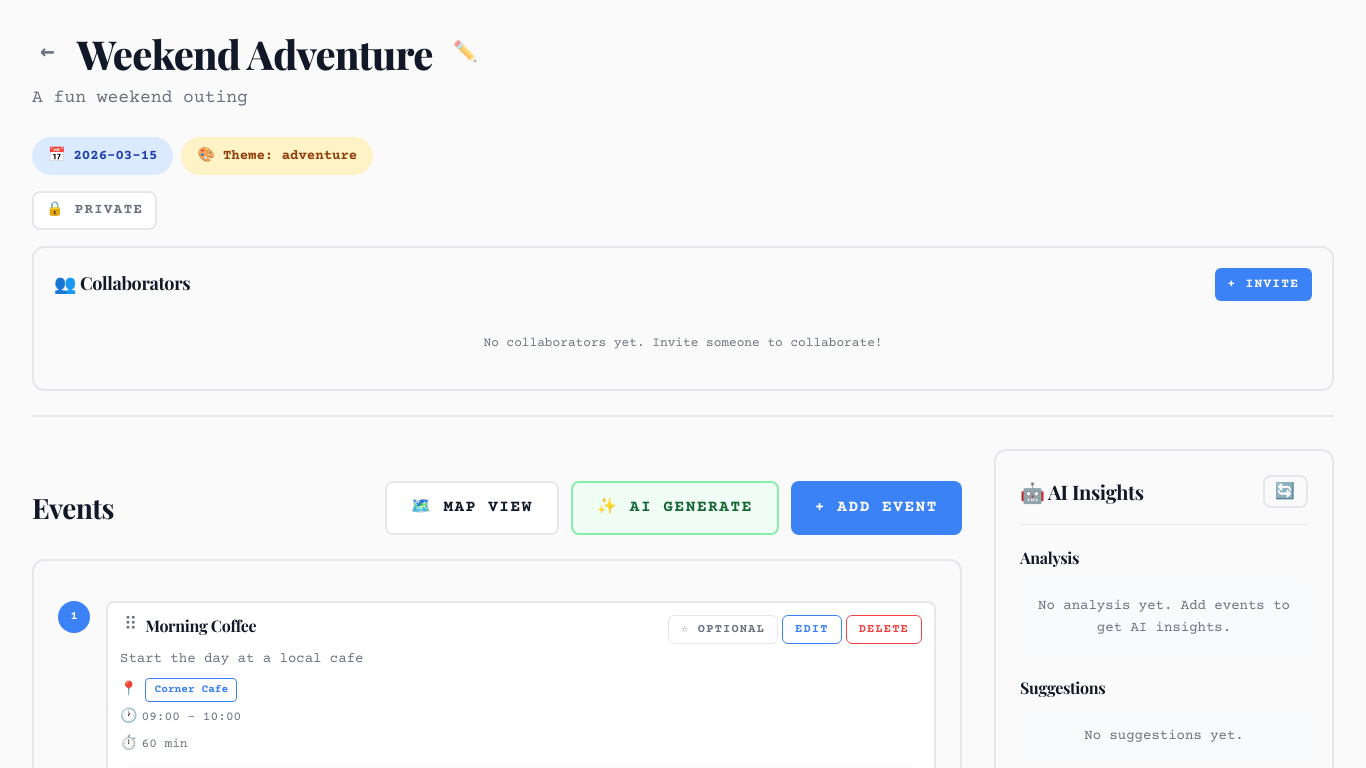
Test case: PlanDetailPage - Layout Updates › should show collaboration invite form when clicking invite
Expected: the heading "Weekend Adventure" is shown, [77, 32, 433, 76]
Click the button "+ Invite": (1263, 284) [1215, 268, 1312, 301]
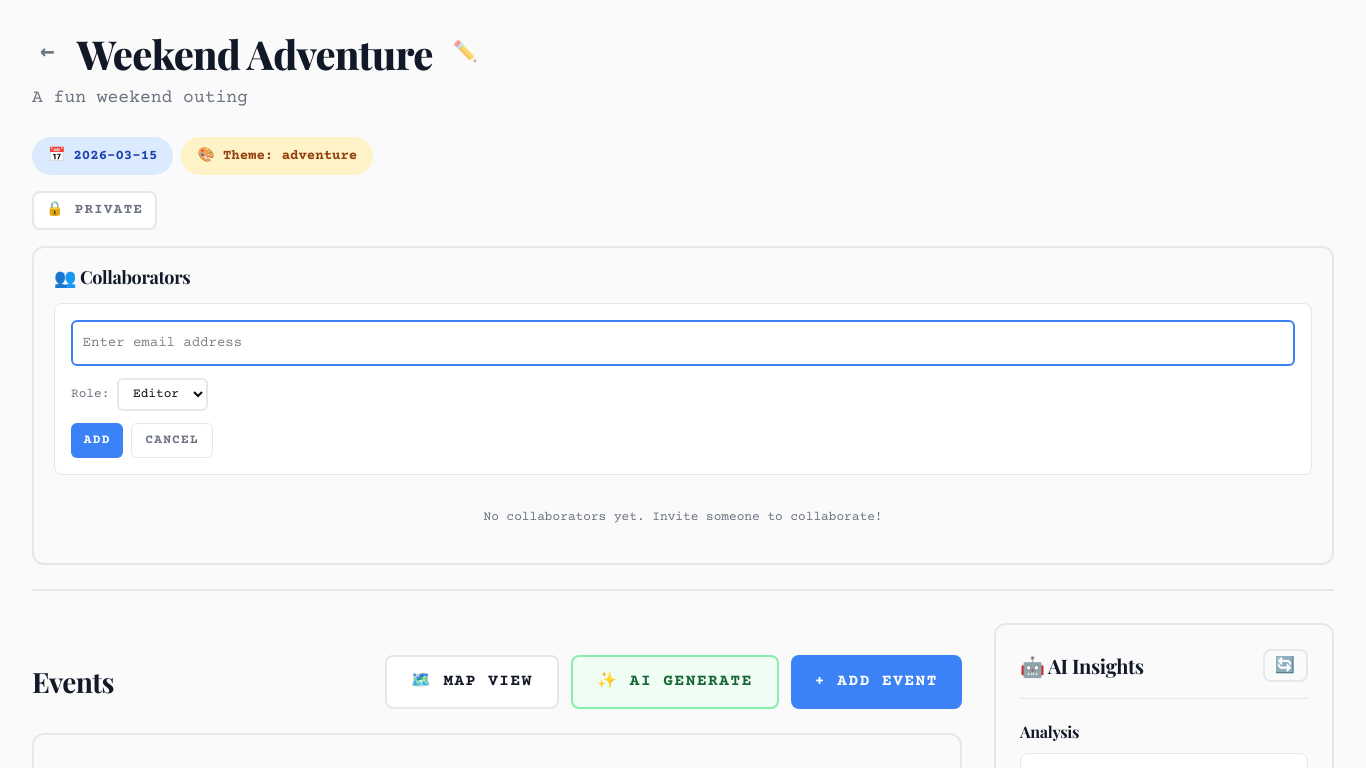
Now the field with placeholder "Enter email address" is shown, box [71, 320, 1295, 366]
